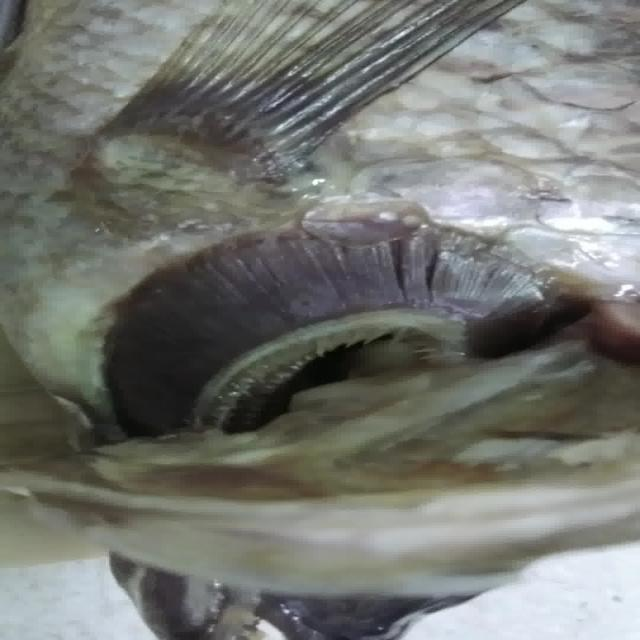Non-Fresh: (75, 221, 549, 443)
